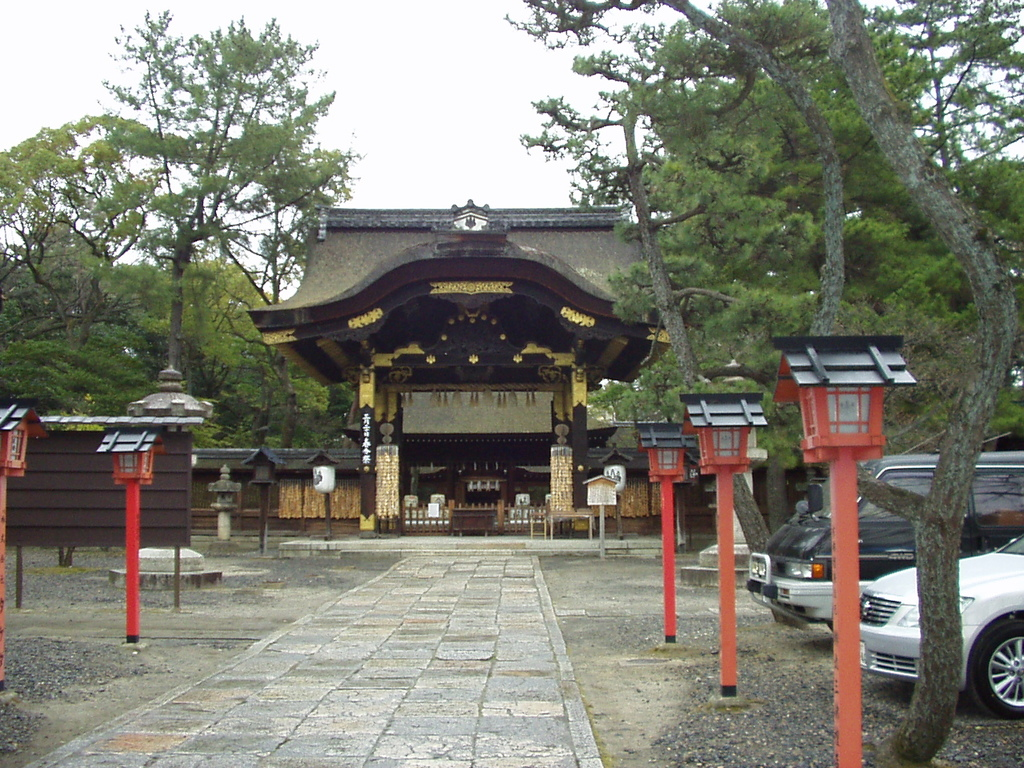Tree: (509, 0, 1023, 767), (68, 5, 365, 452), (0, 93, 152, 336)
